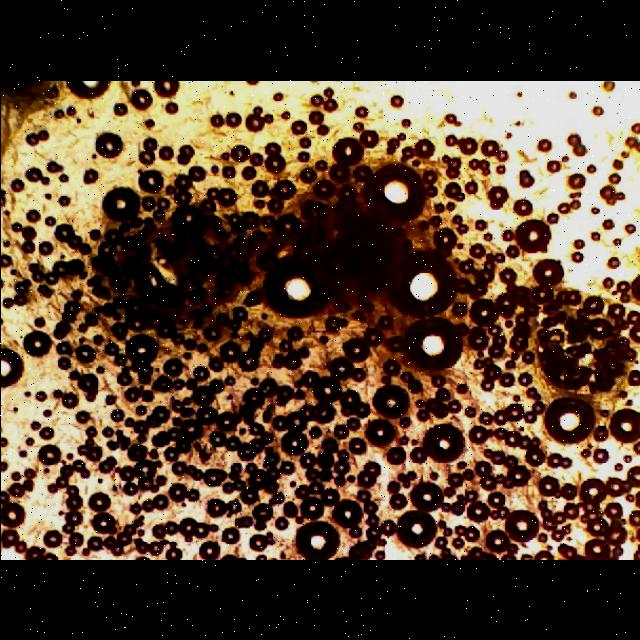microbeads: (386, 250, 458, 316), (264, 256, 334, 316), (365, 166, 425, 227), (406, 314, 462, 374), (544, 393, 598, 445), (422, 424, 466, 470), (296, 520, 340, 560), (394, 512, 436, 548), (98, 186, 140, 218), (608, 408, 640, 447), (506, 510, 540, 544), (62, 81, 112, 103), (514, 219, 548, 251), (0, 350, 28, 388)
